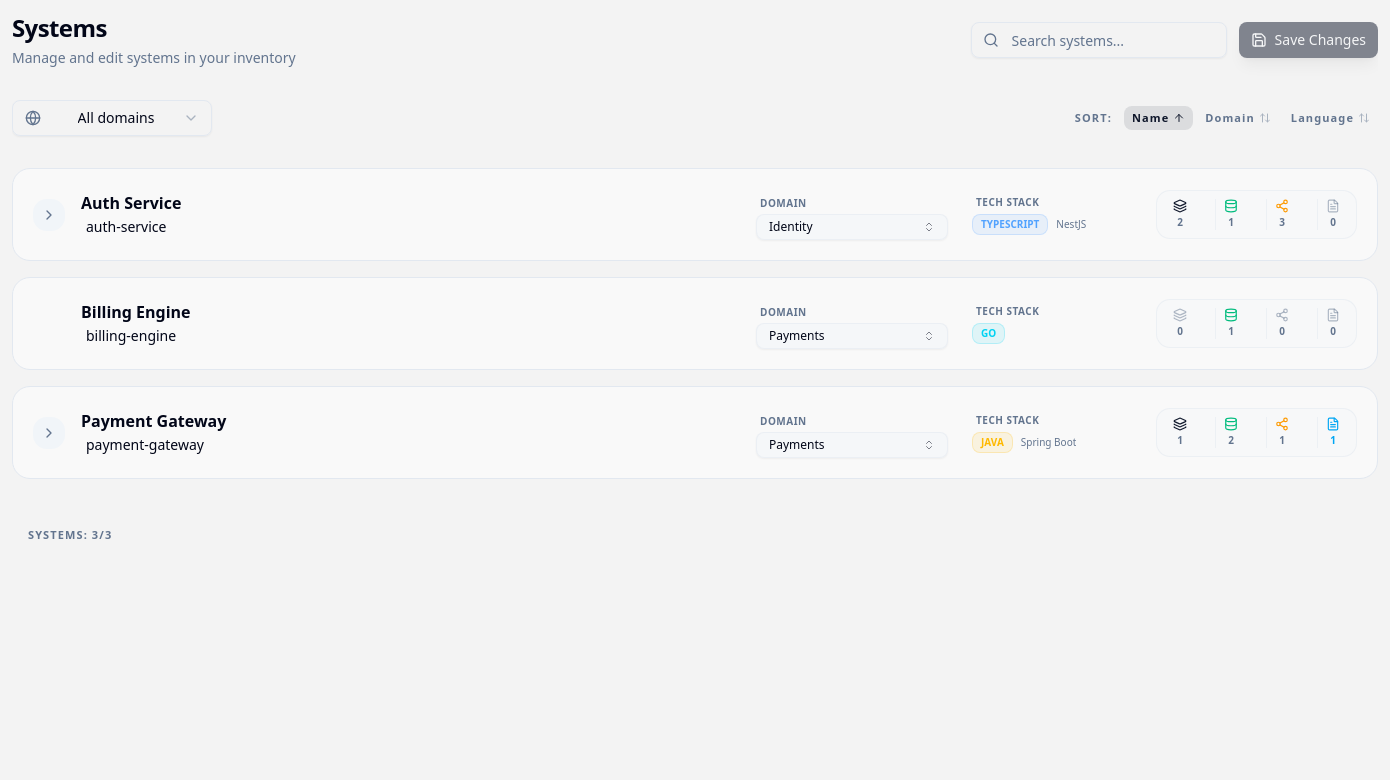
Test: SystemsTable › shows filter empty state when no matches
This screenshot has width=1390, height=780.
Type "nonexistent" into the field labelled "Search systems".
click(1099, 40); type("nonexistent")  # box [971,22,1227,58]
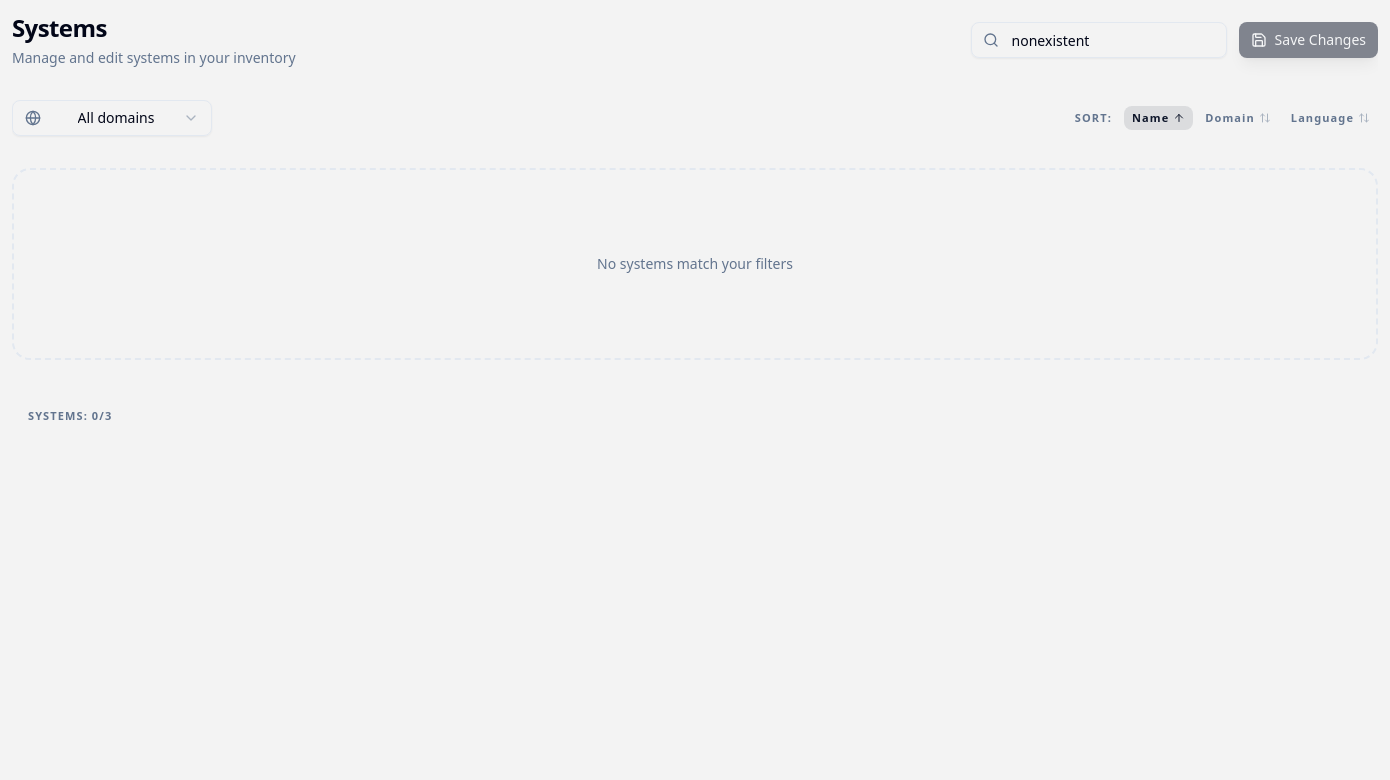
Expected: the text "No systems match your filters" is shown, [12,168,1378,360]
